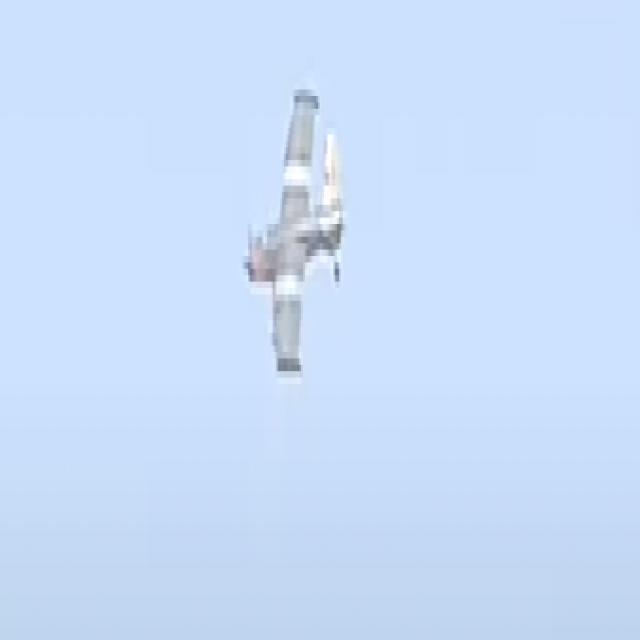UAV: (249, 64, 352, 382)
